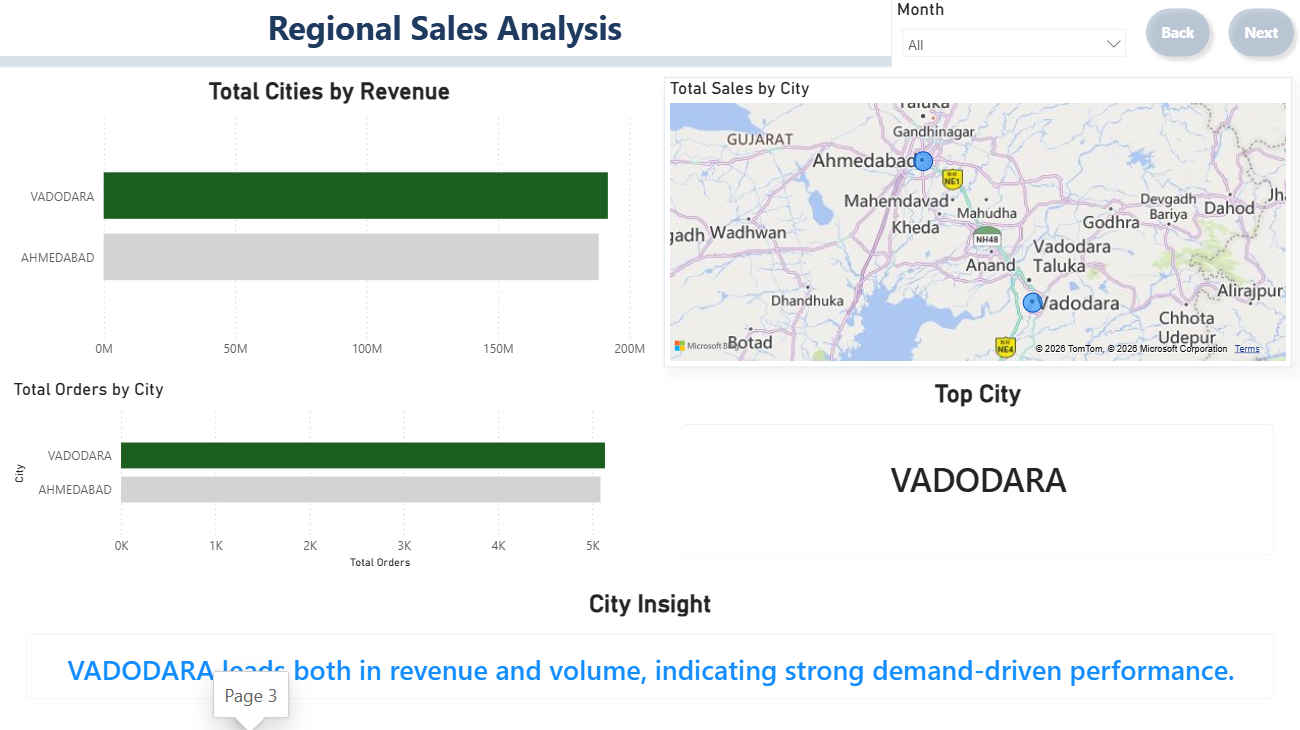

This screenshot's page, from the dashboard's own definition file:
{"tool":"powerbi","page":{"name":"Page 3","canvas":[1280,720],"ordinal":2},"visuals":[{"type":"textbox","box":[0,0,875.7,65.4],"z":0,"group":"g1"},{"type":"clusteredBarChart","title":"Total Cities by Revenue","fields":{"Category":["pharma_sales_main1.City"],"Y":["Measures_Table.Total Sales"]},"box":[10.3,75.9,629.3,284.5],"z":0},{"type":"shape","box":[0,56,875.9,11.2],"z":1000,"group":"g1"},{"type":"cardVisual","title":"Top City","fields":{"Data":["Measures_Table.Top City Name"]},"box":[653.5,372.6,615.7,190.7],"z":1000},{"type":"clusteredBarChart","fields":{"Category":["pharma_sales_main1.City"],"Y":["Measures_Table.Total Orders"]},"box":[10.2,372.6,630.3,190.7],"z":2000},{"type":"cardVisual","title":"City Insight","fields":{"Data":["Measures_Table.City Insight"]},"box":[10.6,578.4,1258.3,125.7],"z":3000},{"type":"map","fields":{"Category":["pharma_sales_main1.City"],"Size":["Measures_Table.Total Sales"]},"box":[653.4,75.9,615.5,284.5],"z":4000},{"type":"actionButton","box":[1196.6,0,82.8,65.5],"z":5000},{"type":"actionButton","box":[1115.5,0,81,65.5],"z":6000},{"type":"slicer","title":"Month","fields":{"Values":["DateTable.Date.Variation.Date Hierarchy.Month"]},"box":[875.9,0,239.7,65.5],"z":7000},{"type":"group","id":"g1","title":"Group 1","box":[0,0,875.9,65.5],"z":8000}]}

Visuals, with their boxes in screenshot pixels (x1, y1, x2, y2), scaled from the page's 1280x720 canvas onto the 1300x730 screenshot:
textbox: <bbox>0, 0, 889, 66</bbox>
"Total Cities by Revenue" clusteredBarChart: <bbox>10, 77, 650, 365</bbox>
shape: <bbox>0, 57, 890, 68</bbox>
"Top City" cardVisual: <bbox>664, 378, 1289, 571</bbox>
clusteredBarChart - pharma_sales_main1.City x Measures_Table.Total Orders: <bbox>10, 378, 651, 571</bbox>
"City Insight" cardVisual: <bbox>11, 586, 1289, 714</bbox>
map - pharma_sales_main1.City x Measures_Table.Total Sales: <bbox>664, 77, 1289, 365</bbox>
actionButton: <bbox>1215, 0, 1299, 66</bbox>
actionButton: <bbox>1133, 0, 1215, 66</bbox>
"Month" slicer: <bbox>890, 0, 1133, 66</bbox>
"Group 1" group: <bbox>0, 0, 890, 66</bbox>
